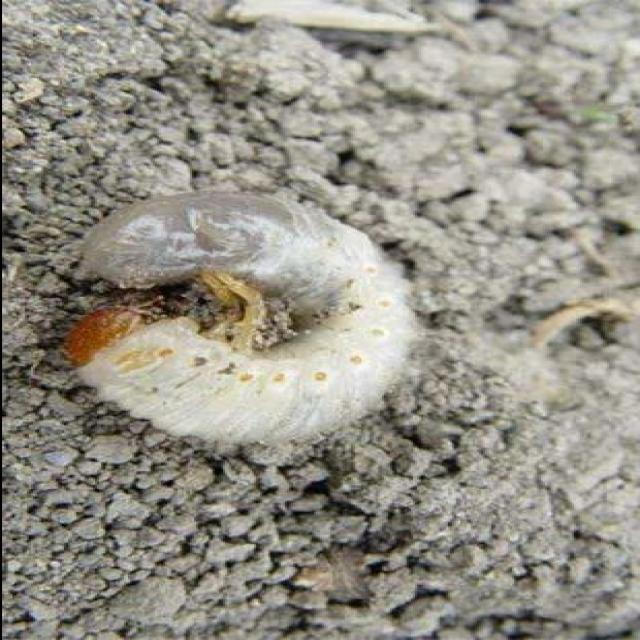grub: (78, 191, 425, 448)
